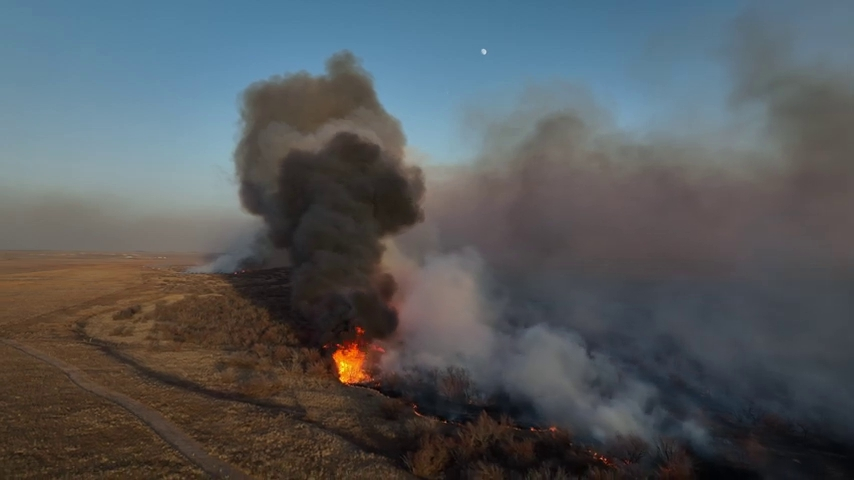forest_fire: (332, 327, 382, 383)
